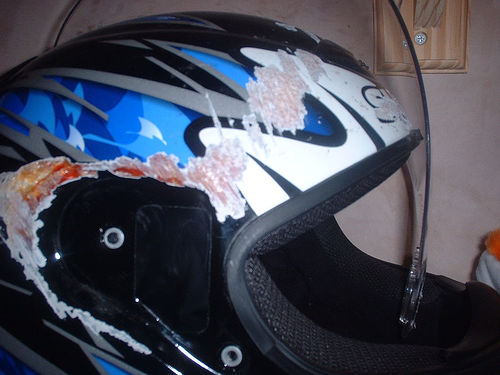helmet: (5, 40, 486, 375)
